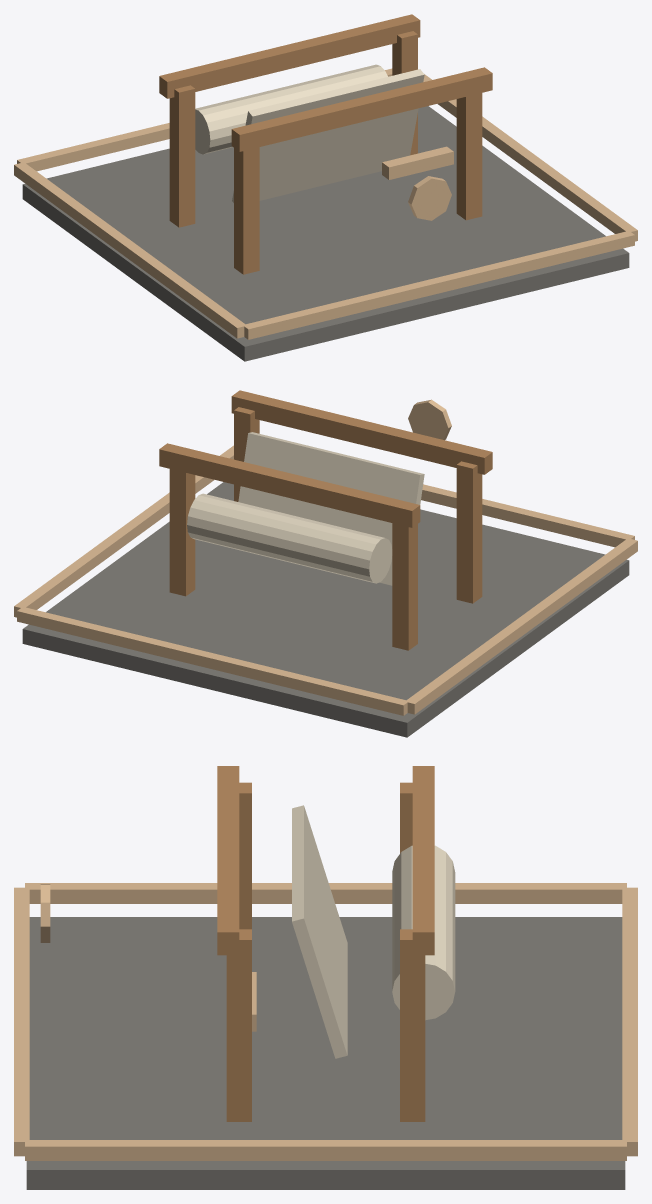
Rendered from t2_loom.glb.
3 renders of one model, top to bottom at view 1: azimuth 30°, elevation 25°; view 2: azimuth 150°, elevation 25°; view 3: azimuth 270°, elevation 25°, orthographic. The views are drawn at different scales.
Visible parts, largest first — view 1: FootprintBase, ClothSheet, FrontBeam, TierFrontTrim, BackBeam, TierLeftTrim, ClothRoll, FramePost.001, TierRightTrim, FramePost.002, FramePost, TierBackTrim (+3 smaller); view 2: FootprintBase, ClothRoll, ClothSheet, BackBeam, TierBackTrim, FrontBeam, TierLeftTrim, FramePost, TierRightTrim, FramePost.001, FramePost.003, TierFrontTrim (+2 smaller); view 3: FootprintBase, TierRightTrim, TierLeftTrim, ClothSheet, ClothRoll, FramePost.002, FramePost.003, BackBeam, FrontBeam, TierBackTrim, TierFrontTrim, FramePost (+2 smaller).
Part boxes in pixels (left/top/right/bottom): FootprintBase: left=22, top=106, right=629, bottom=361; ClothSheet: left=232, top=69, right=424, bottom=202; FrontBeam: left=231, top=67, right=492, bottom=151; TierFrontTrim: left=243, top=231, right=634, bottom=339; BackBeam: left=159, top=14, right=420, bottom=98; TierLeftTrim: left=14, top=162, right=246, bottom=338; ClothRoll: left=195, top=64, right=387, bottom=154; FramePost.001: left=169, top=85, right=195, bottom=227; TierRightTrim: left=423, top=74, right=637, bottom=241; FramePost.002: left=456, top=93, right=482, bottom=220; FramePost: left=234, top=147, right=259, bottom=274; TierBackTrim: left=17, top=68, right=392, bottom=171; FootprintBase: left=22, top=482, right=629, bottom=737; ClothRoll: left=187, top=493, right=392, bottom=583; ClothSheet: left=238, top=432, right=424, bottom=585; BackBeam: left=159, top=443, right=420, bottom=527; TierBackTrim: left=17, top=607, right=408, bottom=715; FrontBeam: left=231, top=390, right=492, bottom=474; TierLeftTrim: left=405, top=538, right=637, bottom=714; FramePost: left=456, top=461, right=482, bottom=603; TierRightTrim: left=14, top=445, right=233, bottom=617; FramePost.001: left=392, top=523, right=417, bottom=650; FramePost.003: left=169, top=469, right=195, bottom=596; TierFrontTrim: left=421, top=484, right=634, bottom=547; FootprintBase: left=26, top=917, right=625, bottom=1189; TierRightTrim: left=25, top=1140, right=626, bottom=1160; TierLeftTrim: left=25, top=883, right=626, bottom=903; ClothSheet: left=292, top=805, right=347, bottom=1058; ClothRoll: left=392, top=845, right=455, bottom=1020; FramePost.002: left=226, top=929, right=251, bottom=1121; FramePost.003: left=400, top=929, right=425, bottom=1121; BackBeam: left=412, top=766, right=434, bottom=955; FrontBeam: left=217, top=766, right=239, bottom=955; TierBackTrim: left=622, top=887, right=637, bottom=1156; TierFrontTrim: left=14, top=887, right=29, bottom=1156; FramePost: left=239, top=782, right=251, bottom=929.
Size of the model in its own units: 3.96 by 1.5 by 3.96.
